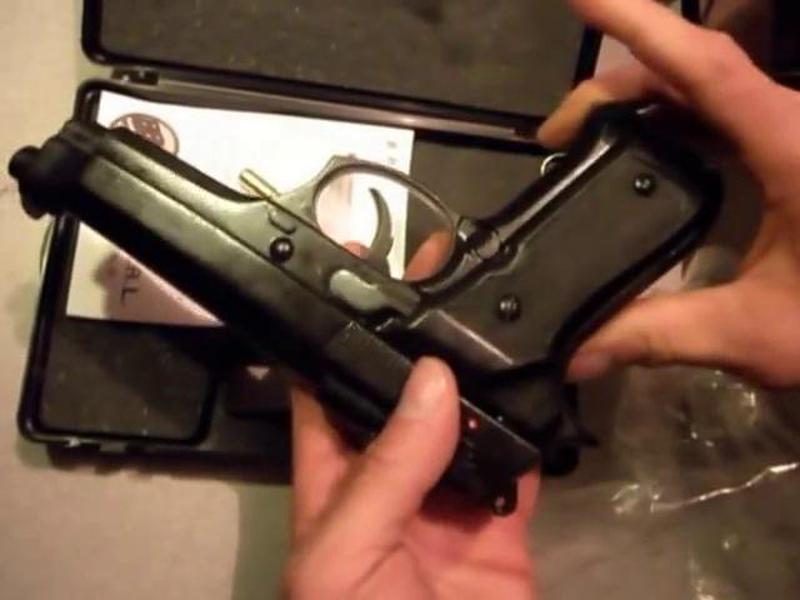Pistola: (18, 26, 726, 493)
